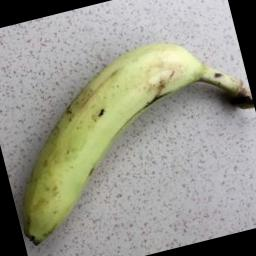Banana Ripe: (0, 18, 256, 255)
